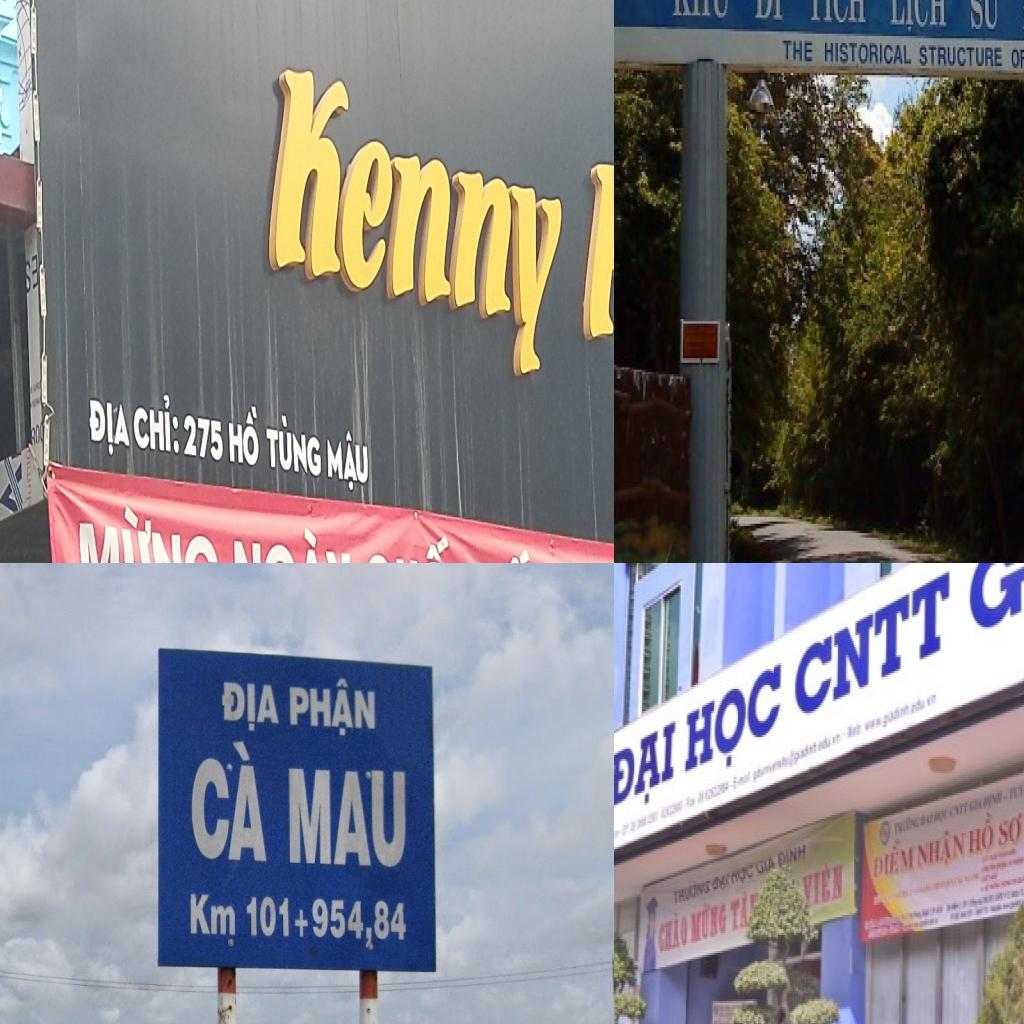text: (264, 53, 572, 387), (793, 565, 954, 727), (281, 759, 414, 872), (681, 651, 786, 789), (188, 736, 278, 870), (75, 494, 224, 563), (614, 715, 679, 821), (230, 514, 355, 563), (284, 676, 379, 738), (361, 518, 481, 563), (216, 674, 286, 738), (264, 409, 323, 480), (130, 389, 181, 457), (184, 885, 240, 942), (326, 426, 370, 494), (798, 855, 846, 915), (88, 398, 134, 459), (915, 823, 966, 875), (822, 41, 914, 68), (226, 400, 261, 469), (918, 43, 1004, 70), (182, 411, 225, 464), (889, 0, 949, 36), (873, 833, 915, 883), (690, 895, 729, 945), (966, 805, 997, 859), (807, 0, 868, 27), (658, 907, 689, 957), (671, 875, 713, 907), (670, 0, 732, 19), (996, 809, 1024, 851), (969, 0, 1003, 33), (774, 839, 809, 871), (730, 887, 751, 937), (781, 38, 815, 66), (730, 861, 758, 891), (753, 0, 785, 24), (753, 853, 779, 879), (710, 867, 731, 893), (1010, 47, 1024, 72)
